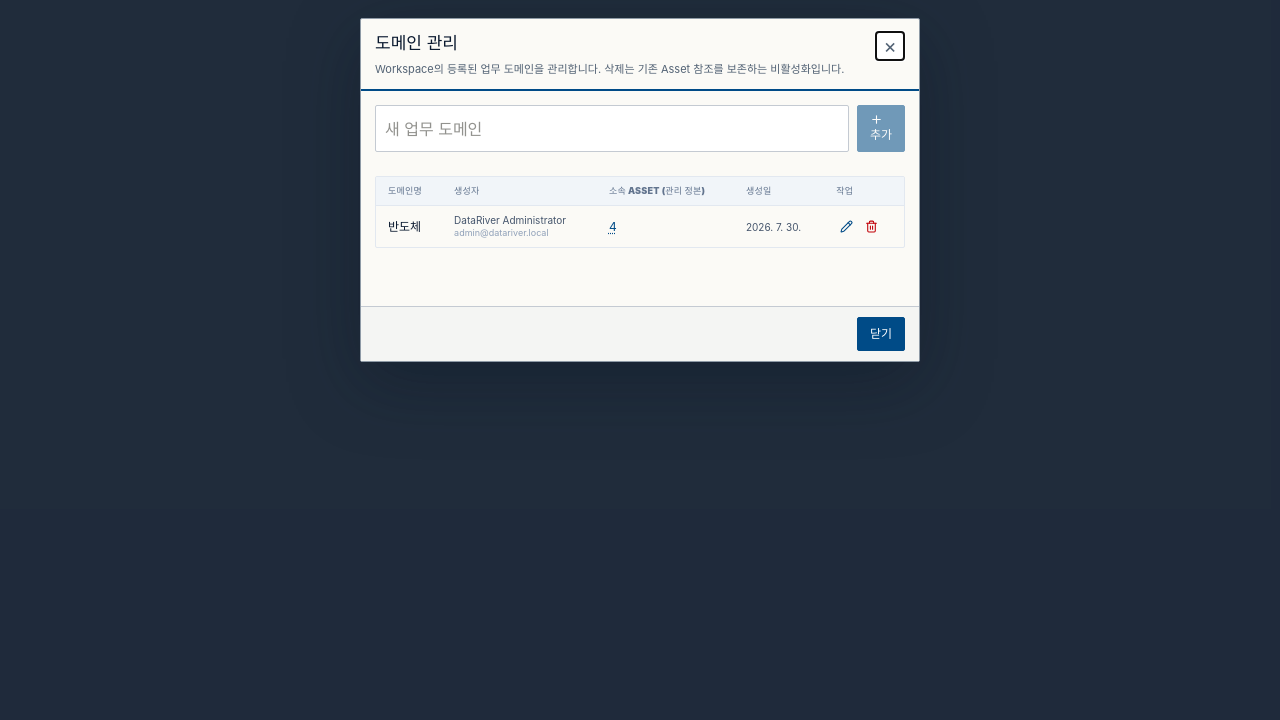
Scenario: DomainManagementDialog › fails closed without a global registry fallback or fabricated rows
Click the button named "반도체 도메인의 조회 가능 Asset 보기". click: (613, 227)
box: [609,219,617,235]
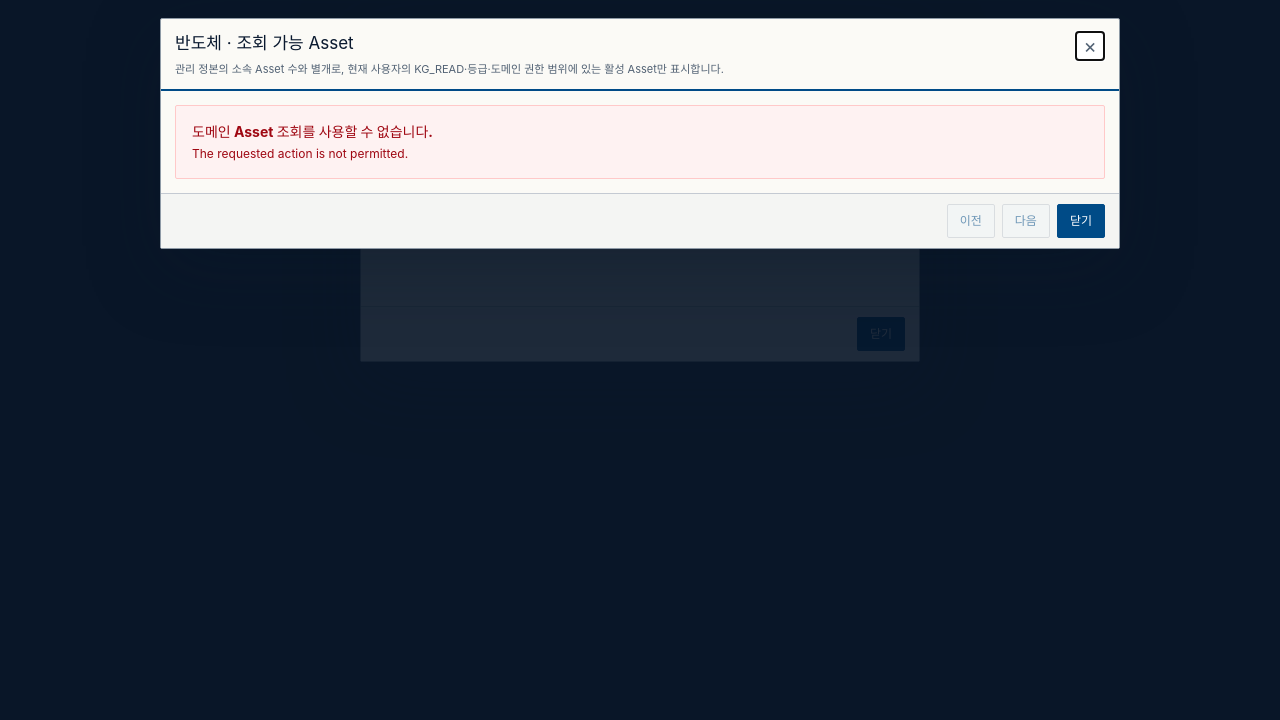
Expected: the message shows "도메인 Asset 조회를 사용할 수 없습니다.", [192,123,433,140]
